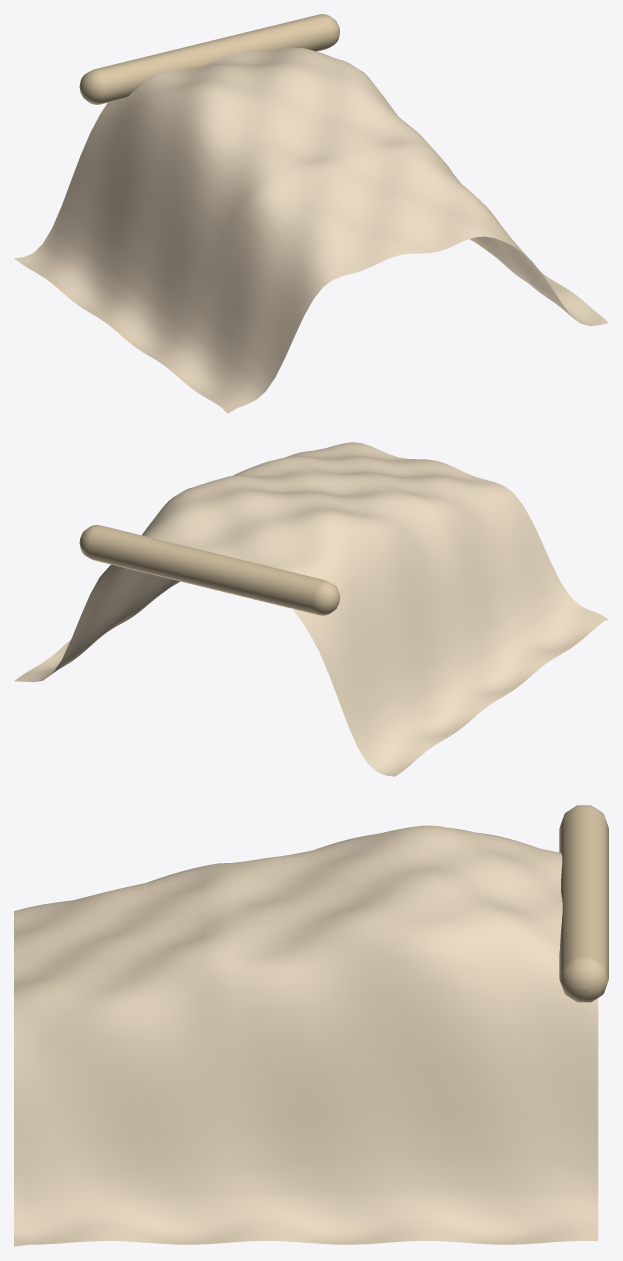
The model's file is blanket.glb.
3 views of the same model, one above another, from view 1: azimuth 30°, elevation 25°; view 2: azimuth 150°, elevation 25°; view 3: azimuth 270°, elevation 25° (orthographic). The views are drawn at different scales.
Visible parts, largest first — view 1: blanket, blanketEdge; view 2: blanket, blanketEdge; view 3: blanket, blanketEdge.
Boxes of the visible parts, x1,y1,x2,y2 form: blanket: (14, 47, 608, 413); blanketEdge: (79, 14, 339, 104); blanket: (14, 442, 608, 776); blanketEdge: (79, 525, 339, 615); blanket: (14, 825, 598, 1246); blanketEdge: (559, 805, 608, 1002).
Bounding box in the file's own units: 0.34 × 0.1584 × 0.336.
